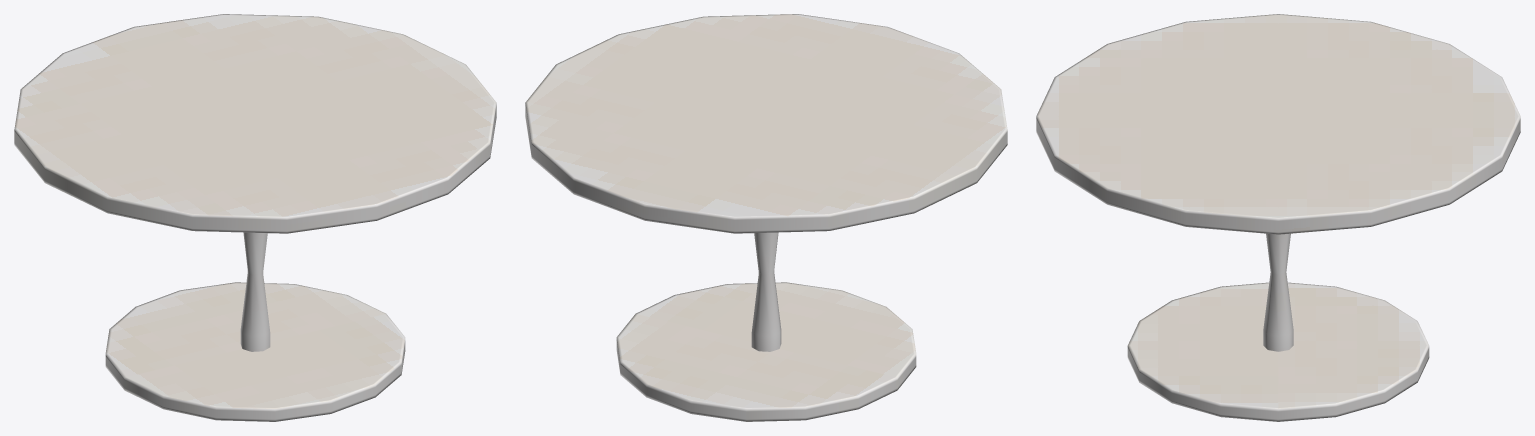
Rendered from a_com_house_a01_table01.gltf.
The picture shows the model from 3 angles, left to right: view 1: azimuth 30°, elevation 25°; view 2: azimuth 150°, elevation 25°; view 3: azimuth 270°, elevation 25°; orthographic projection.
Parts seen in each view (by area): view 1: a_com_house_a01_table01_mesh1_shape:a_com_house_a01_table01_; view 2: a_com_house_a01_table01_mesh1_shape:a_com_house_a01_table01_; view 3: a_com_house_a01_table01_mesh1_shape:a_com_house_a01_table01_.
Part boxes in pixels (x1=…): a_com_house_a01_table01_mesh1_shape:a_com_house_a01_table01_: x1=14, y1=14, x2=496, y2=421; a_com_house_a01_table01_mesh1_shape:a_com_house_a01_table01_: x1=525, y1=14, x2=1007, y2=421; a_com_house_a01_table01_mesh1_shape:a_com_house_a01_table01_: x1=1036, y1=14, x2=1520, y2=421.
Size of the model in its own units: 1.36 by 0.75 by 1.36.
Materials: 1 (1 with a texture image).
